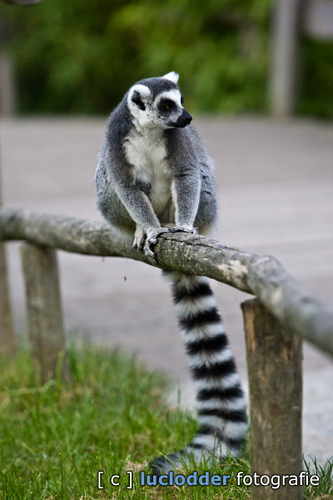cat: (91, 68, 254, 487)
